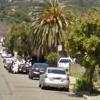Palm tree: (29, 0, 79, 56)
